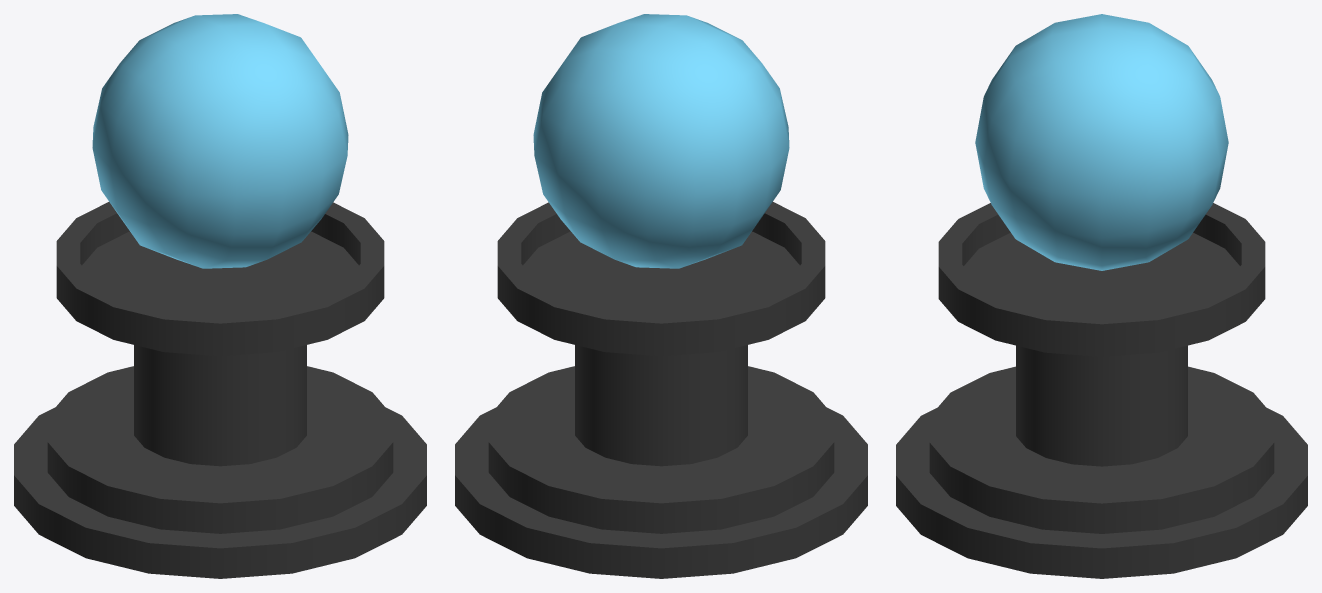
File: PuntoGuardado.FBX
3 views of the same model, side by side, from view 1: azimuth 30°, elevation 25°; view 2: azimuth 150°, elevation 25°; view 3: azimuth 270°, elevation 25° (orthographic).
Visible parts, largest first — view 1: PuntoGuardado; view 2: PuntoGuardado; view 3: PuntoGuardado.
Part boxes in pixels (<box>): PuntoGuardado: <box>14,14,426,578</box>; PuntoGuardado: <box>455,14,867,578</box>; PuntoGuardado: <box>896,14,1307,578</box>.
Size of the model in its own units: 124 by 152 by 122.
